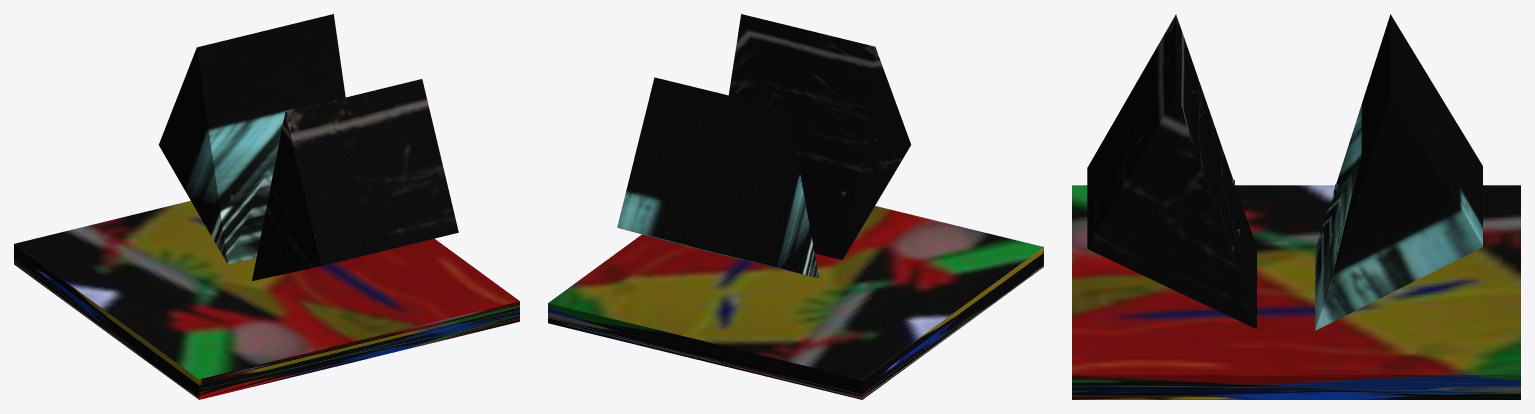
Rendered from bigslide.glb.
3 views of the same model, side by side, from view 1: azimuth 30°, elevation 25°; view 2: azimuth 150°, elevation 25°; view 3: azimuth 270°, elevation 25° (orthographic). The views are drawn at different scales.
Parts seen in each view (by area): view 1: Cube.008, Cube, Cube.001; view 2: Cube.008, Cube.001, Cube; view 3: Cube.008, Cube, Cube.001.
Boxes of the visible parts, x1=… form: Cube.008: x1=14, y1=200, x2=519, y2=399; Cube: x1=252, y1=79, x2=458, y2=280; Cube.001: x1=159, y1=14, x2=345, y2=264; Cube.008: x1=548, y1=206, x2=1043, y2=399; Cube.001: x1=617, y1=77, x2=818, y2=278; Cube: x1=728, y1=14, x2=910, y2=259; Cube.008: x1=1072, y1=185, x2=1520, y2=399; Cube: x1=1087, y1=14, x2=1256, y2=329; Cube.001: x1=1315, y1=14, x2=1482, y2=330.
Bounding box in the file's own units: 2721 × 1823 × 2721.
Materials: 4 (4 with a texture image).
